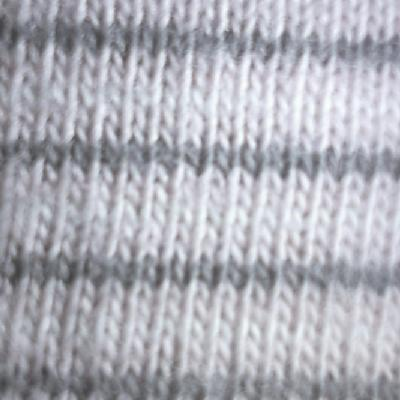cotton: (4, 0, 400, 400)
